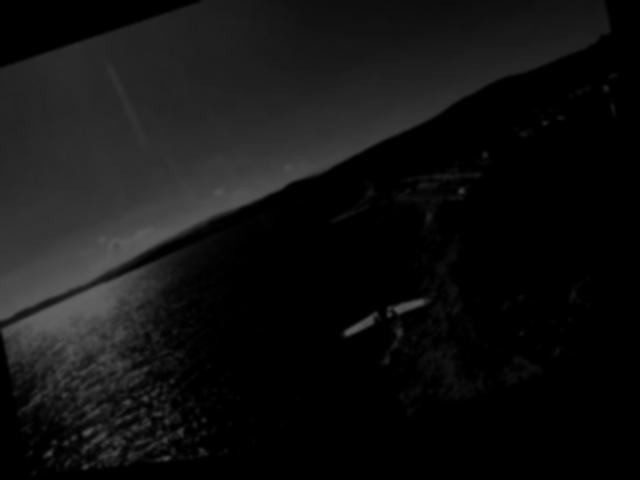hedef: (326, 284, 449, 368)
